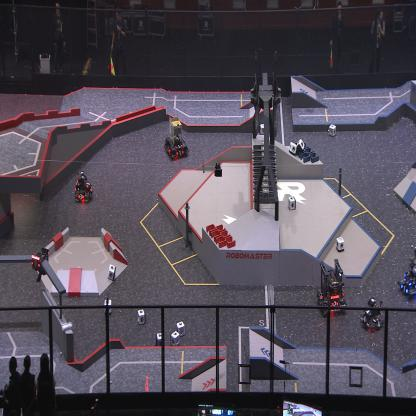car: (314, 257, 346, 315), (162, 113, 190, 158), (397, 244, 415, 302), (358, 297, 385, 333), (74, 170, 94, 203)
